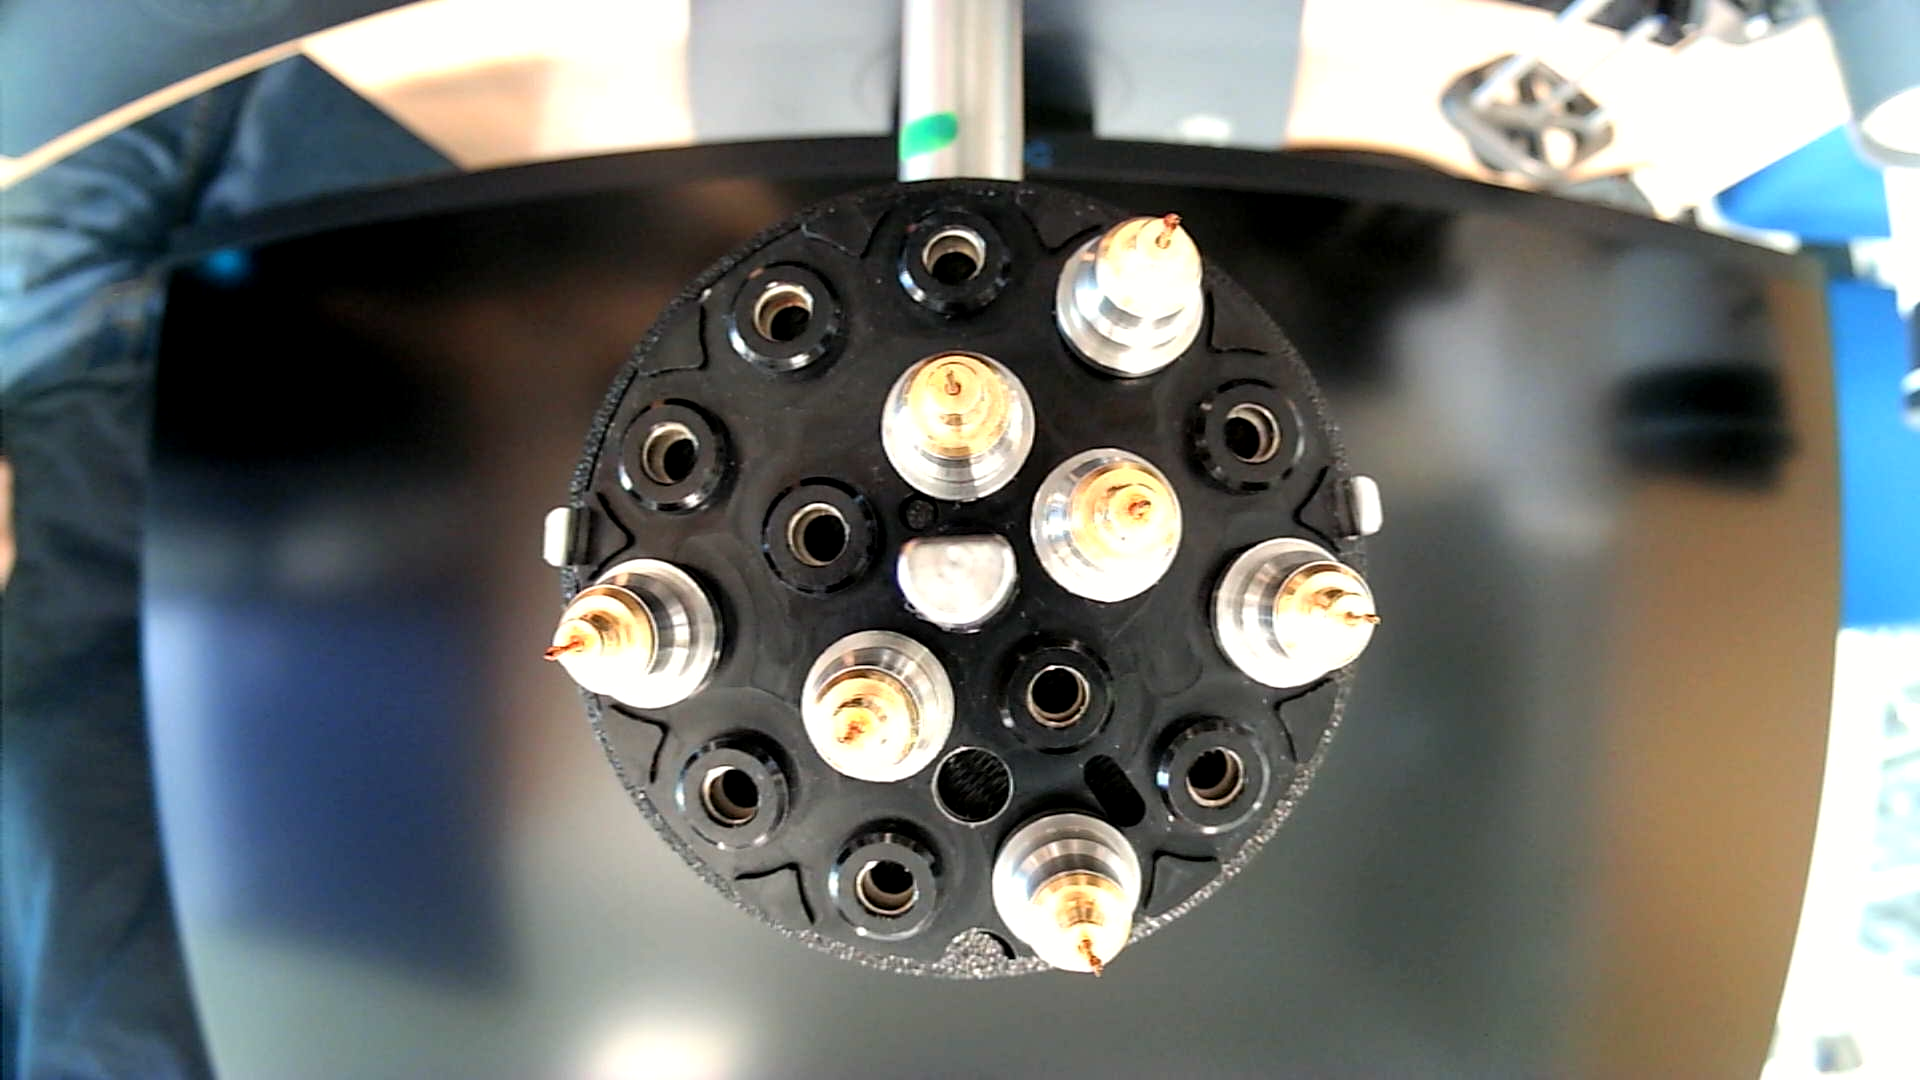empty: (822, 818, 963, 949), (719, 256, 852, 384), (607, 394, 738, 522), (760, 473, 884, 603), (679, 727, 800, 858), (1150, 713, 1276, 837), (891, 200, 1021, 322), (1183, 375, 1309, 496), (992, 630, 1112, 752)
hole: (928, 742, 1015, 829)
misplaced: (992, 804, 1145, 982)
pin: (543, 555, 725, 715), (1209, 535, 1381, 692), (1054, 212, 1205, 384), (878, 349, 1038, 506), (800, 626, 956, 783), (1030, 448, 1184, 607)
rod: (890, 527, 1021, 638)
